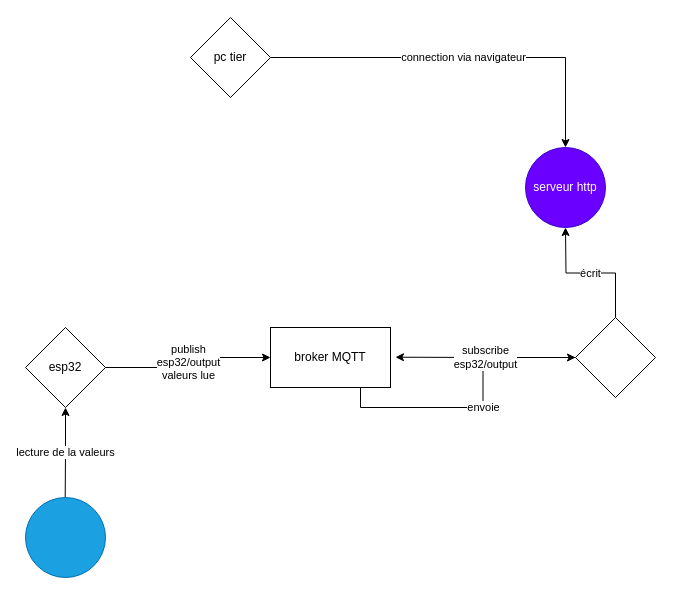
The diagram is 674 pixels wide and 595 high, and some of its shapes have lost their labels. Each missing label, with the box of its shape:
photo résistance: (24, 496, 106, 578)
raspberry: (574, 316, 656, 398)
